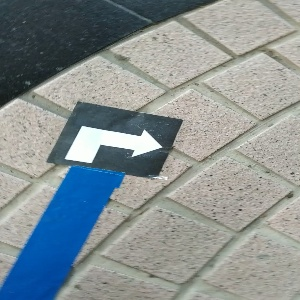right: (46, 102, 182, 178)
